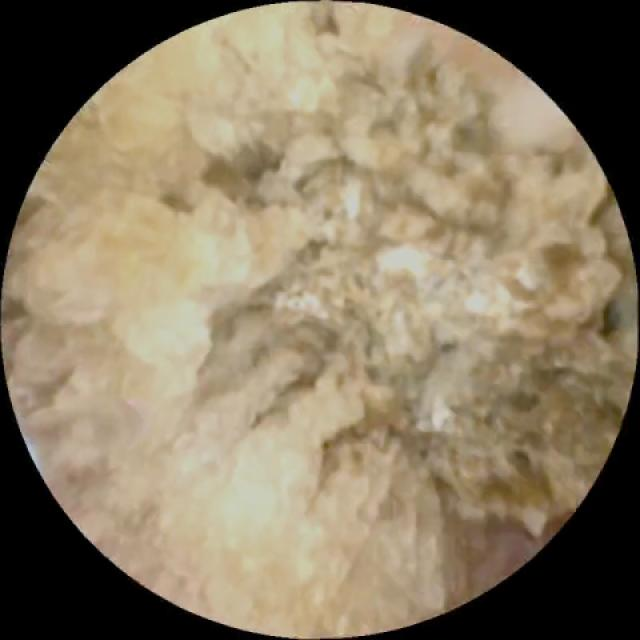stone: (11, 8, 625, 627)
